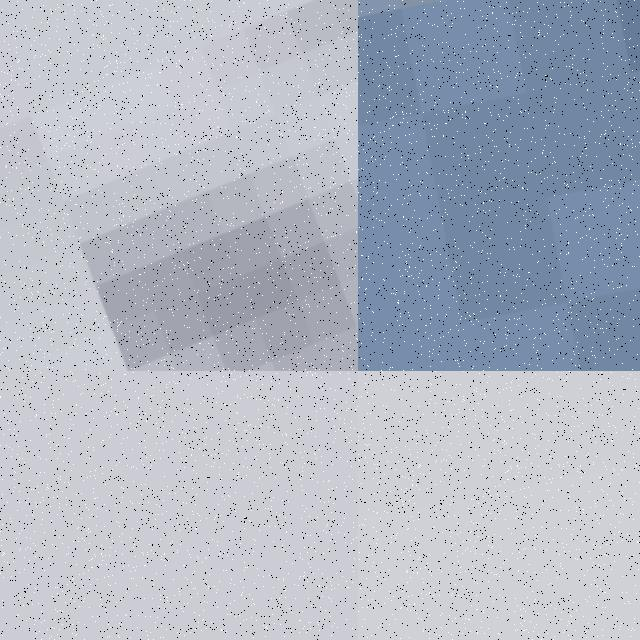drone: (0, 0, 358, 371)
